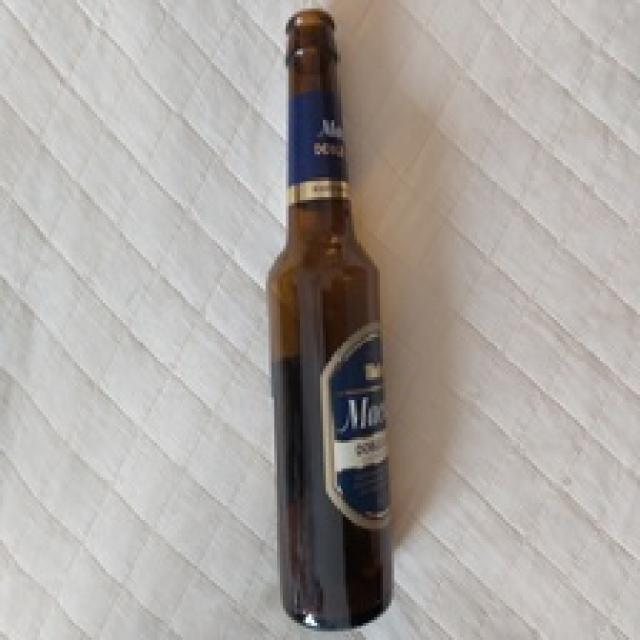Glass: (266, 9, 394, 632)
